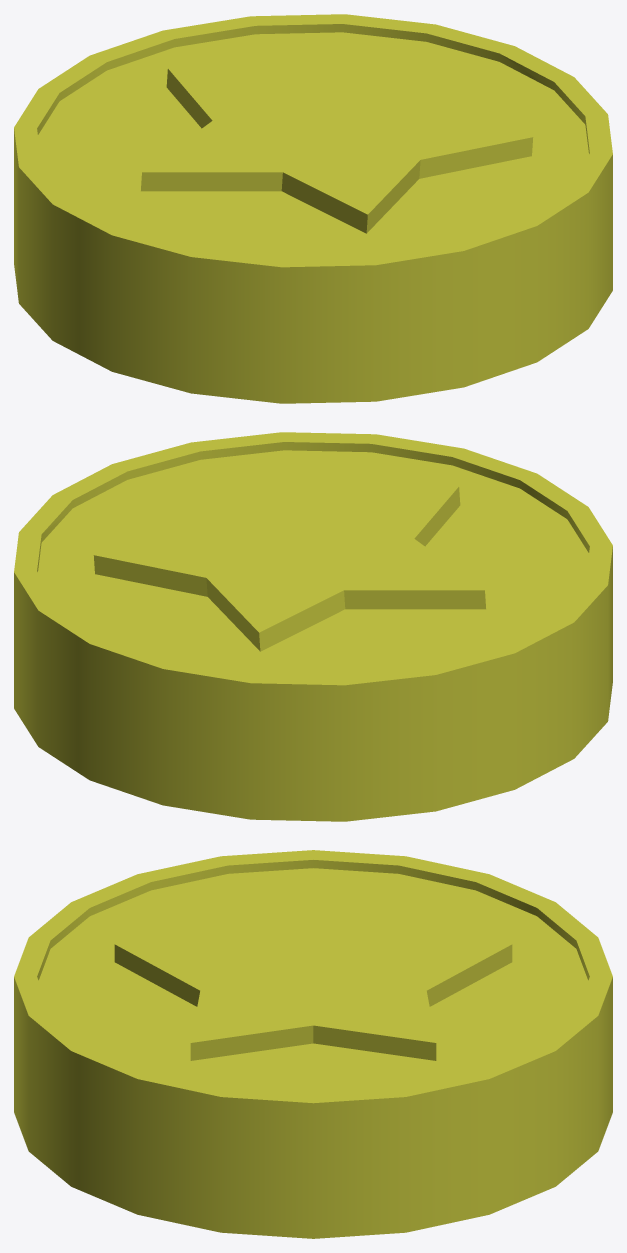
File: CasinoCoin.fbx
3 renders of one model, top to bottom at view 1: azimuth 30°, elevation 25°; view 2: azimuth 150°, elevation 25°; view 3: azimuth 270°, elevation 25°, orthographic.
Visible parts, largest first — view 1: Coin3; view 2: Coin3; view 3: Coin3.
Boxes of the visible parts, box(x1,y1,x2,y2) form: Coin3: box(14, 14, 612, 403); Coin3: box(14, 432, 612, 821); Coin3: box(14, 850, 612, 1238).
Size of the model in its own units: 2 by 0.5754 by 2.
